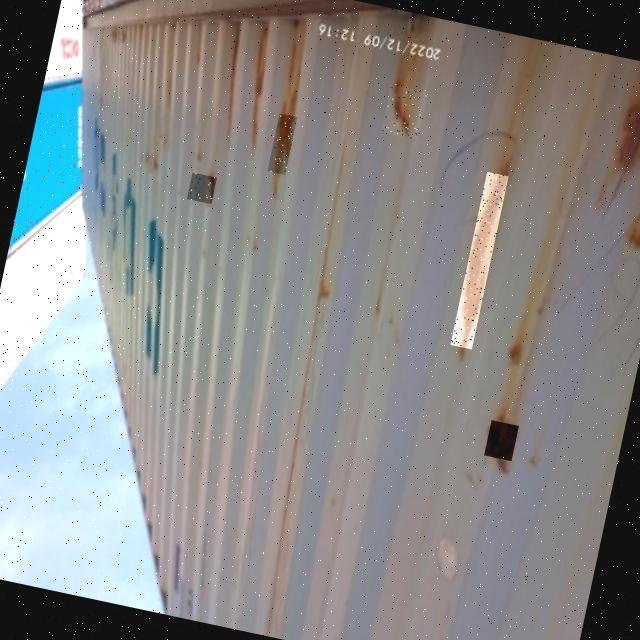Rust: (450, 171, 508, 349), (381, 82, 429, 139), (267, 113, 297, 175), (484, 420, 519, 461), (187, 172, 217, 204)
